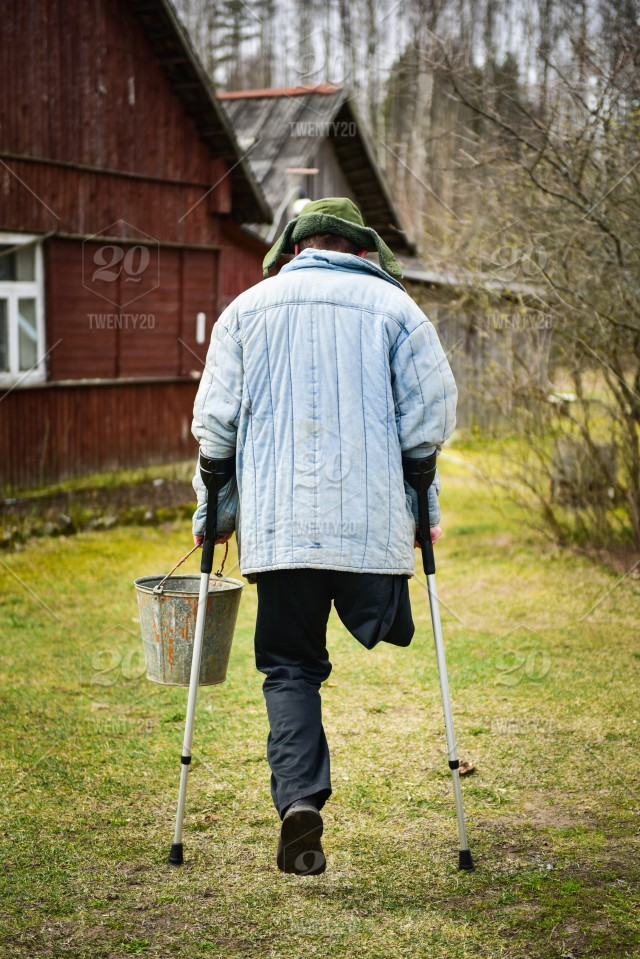crutches: (165, 192, 477, 876)
